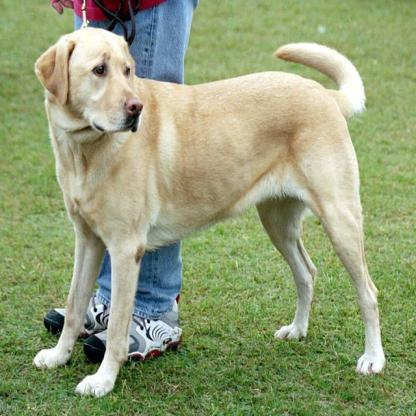Labarador Retriever: (34, 27, 388, 398)
